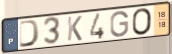3: (43, 16, 62, 47)
4: (89, 12, 106, 41)
D: (18, 19, 41, 49)
G: (109, 10, 130, 38)
K: (66, 15, 83, 42)
O: (131, 7, 154, 37)
